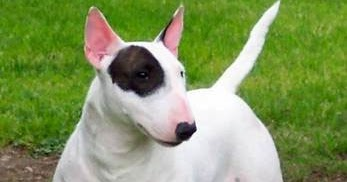bull_terrier: (51, 0, 283, 182)
